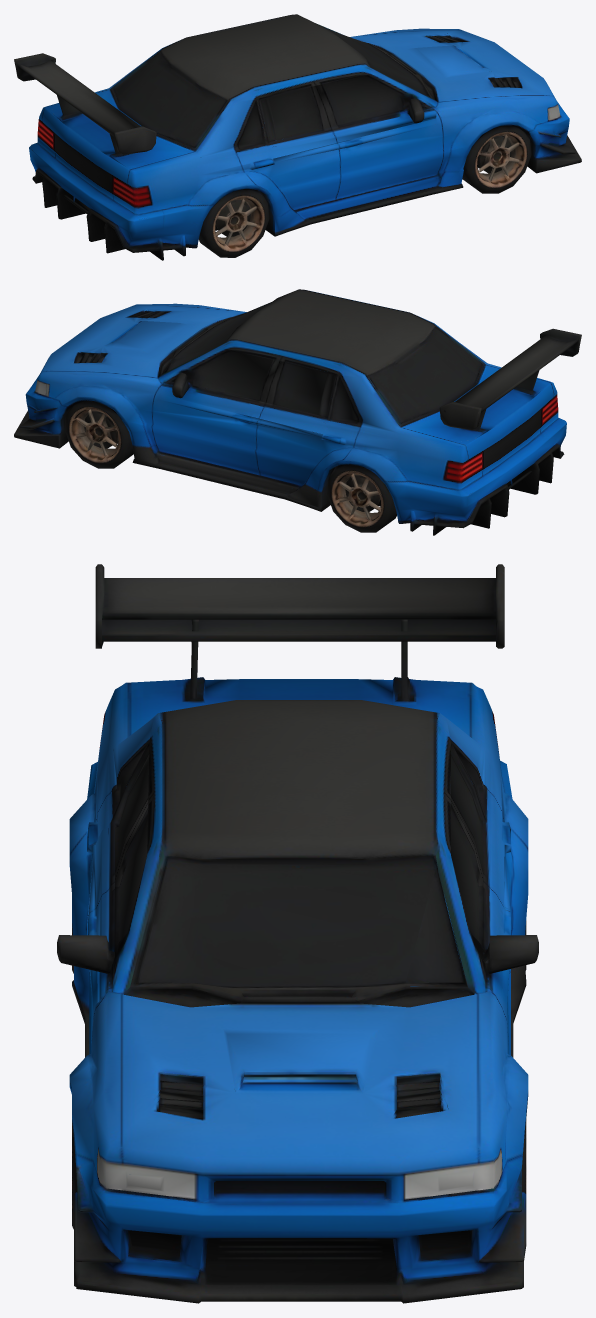
File: jdm-tripo.glb
3 renders of one model, top to bottom at view 1: azimuth 30°, elevation 25°; view 2: azimuth 150°, elevation 25°; view 3: azimuth 270°, elevation 25°, orthographic. The views are drawn at different scales.
Visible parts, largest first — view 1: tripo_node_944226f8-6e79-43dc-8384-a4b76e29f69c; view 2: tripo_node_944226f8-6e79-43dc-8384-a4b76e29f69c; view 3: tripo_node_944226f8-6e79-43dc-8384-a4b76e29f69c.
Part boxes in pixels (x1,y1,x2,y2): tripo_node_944226f8-6e79-43dc-8384-a4b76e29f69c: (14, 14, 581, 260); tripo_node_944226f8-6e79-43dc-8384-a4b76e29f69c: (14, 289, 581, 535); tripo_node_944226f8-6e79-43dc-8384-a4b76e29f69c: (57, 564, 538, 1303).
Bounding box in the file's own units: 1 × 0.3014 × 0.4384.
1 material, 1 textured.
